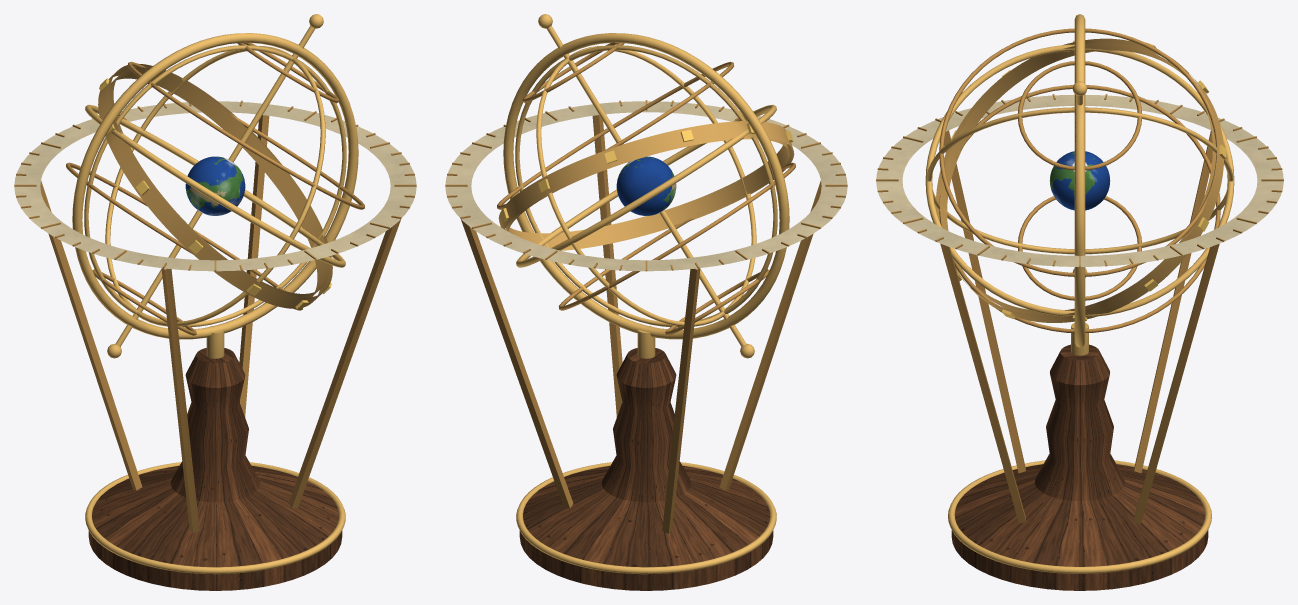
File: sfera-armilarna.glb
3 views of the same model, side by side, from view 1: azimuth 30°, elevation 25°; view 2: azimuth 150°, elevation 25°; view 3: azimuth 270°, elevation 25° (orthographic).
Visible parts, largest first — view 1: sfera_armilarna, rete, os_swiata; view 2: sfera_armilarna, rete, os_swiata; view 3: sfera_armilarna, rete, os_swiata.
Part boxes in pixels (bbox=[...]): sfera_armilarna: bbox=[14, 33, 416, 590]; rete: bbox=[66, 42, 364, 335]; os_swiata: bbox=[107, 14, 323, 358]; sfera_armilarna: bbox=[445, 33, 847, 590]; rete: bbox=[497, 42, 795, 335]; os_swiata: bbox=[538, 14, 754, 358]; sfera_armilarna: bbox=[876, 14, 1283, 590]; rete: bbox=[925, 28, 1234, 333]; os_swiata: bbox=[1049, 81, 1110, 277].
Bounding box in the file's own units: 0.54 × 0.741 × 0.54.
7 materials, 3 textured.
